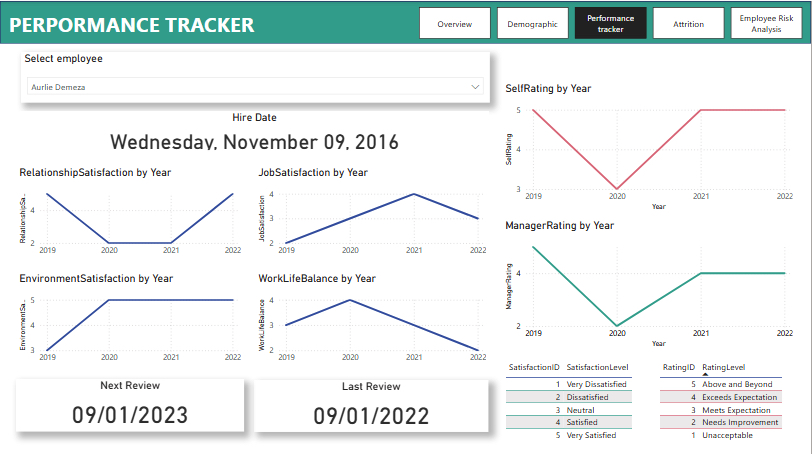

The page's visual inventory and layout, read from the dashboard file:
{"tool":"powerbi","page":{"name":"Performance tracker","canvas":[1280,720],"ordinal":2},"visuals":[{"type":"slicer","title":"Select employee","fields":{"Values":["DimEmployee.FullName"]},"box":[32.5,80.8,740,79.5],"z":0},{"type":"advanceCardE03760C5AB684758B56AA29F9E6C257B","title":"Last Review","fields":{"mainMeasure":["_Measures.LastReviewDate"]},"box":[401.4,597.8,370,82],"z":1000},{"type":"advanceCardE03760C5AB684758B56AA29F9E6C257B","title":"Next Review","fields":{"mainMeasure":["_Measures.NextReviewDate"]},"box":[25.3,596.6,360.4,83.2],"z":2000},{"type":"advanceCardE03760C5AB684758B56AA29F9E6C257B","title":"Hire Date","fields":{"mainMeasure":["Min(DimEmployee.HireDate)"]},"box":[32.1,173.1,740.2,67.1],"z":3000},{"type":"lineChart","fields":{"Category":["DimDate.Date.Variation.Date Hierarchy.Year"],"Y":["_Measure.RelationshipSatisfaction"]},"box":[25.3,259.7,359.9,151.7],"z":4000},{"type":"lineChart","fields":{"Y":["_Measure.EnvironmentSatisfaction"],"Category":["DimDate.Date.Variation.Date Hierarchy.Year"]},"box":[25.3,428,359.9,153.7],"z":5000},{"type":"lineChart","fields":{"Y":["_Measure.JobSatisfaction"],"Category":["DimDate.Date.Variation.Date Hierarchy.Year"]},"box":[402.7,259.7,369.6,151.7],"z":6000},{"type":"lineChart","fields":{"Category":["DimDate.Date.Variation.Date Hierarchy.Year"],"Y":["_Measure.WorkLifeBalance"]},"box":[402.7,428,369.6,153.7],"z":7000},{"type":"lineChart","fields":{"Y":["_Measure.SelfRating"],"Category":["DimDate.Date.Variation.Date Hierarchy.Year"]},"box":[791.7,127.4,464,208.1],"z":8000},{"type":"lineChart","fields":{"Category":["DimDate.Date.Variation.Date Hierarchy.Year"],"Y":["_Measure.ManagerRating"]},"box":[791.7,343.3,464,208.1],"z":9000},{"type":"tableEx","fields":{"Values":["DimSatisfiedLevel.SatisfactionID","DimSatisfiedLevel.SatisfactionLevel"]},"box":[791.7,561.2,243.2,138.1],"z":10000},{"type":"tableEx","fields":{"Values":["DimRatingLevel.RatingID","DimRatingLevel.RatingLevel"]},"box":[1034.9,561.2,232.5,138.1],"z":11000},{"type":"shape","box":[0,0,1280,67.1],"z":12000},{"type":"textbox","box":[12.6,9.7,736.3,57.4],"z":13000},{"type":"pageNavigator","box":[661.3,9.8,607.2,50.9],"z":15000}]}

Visuals, with their boxes in screenshot pixels (x1, y1, x2, y2), scaled from the page's 1280x720 canvas onto the 812x454 screenshot:
"Select employee" slicer: select_region(21, 51, 490, 101)
"Last Review" advanceCardE03760C5AB684758B56AA29F9E6C257B: select_region(255, 377, 489, 429)
"Next Review" advanceCardE03760C5AB684758B56AA29F9E6C257B: select_region(16, 376, 245, 429)
"Hire Date" advanceCardE03760C5AB684758B56AA29F9E6C257B: select_region(20, 109, 490, 151)
lineChart - DimDate.Date.Variation.Date Hierarchy.Year x _Measure.RelationshipSatisfaction: select_region(16, 164, 244, 259)
lineChart - _Measure.EnvironmentSatisfaction x DimDate.Date.Variation.Date Hierarchy.Year: select_region(16, 270, 244, 367)
lineChart - _Measure.JobSatisfaction x DimDate.Date.Variation.Date Hierarchy.Year: select_region(255, 164, 490, 259)
lineChart - DimDate.Date.Variation.Date Hierarchy.Year x _Measure.WorkLifeBalance: select_region(255, 270, 490, 367)
lineChart - _Measure.SelfRating x DimDate.Date.Variation.Date Hierarchy.Year: select_region(502, 80, 797, 212)
lineChart - DimDate.Date.Variation.Date Hierarchy.Year x _Measure.ManagerRating: select_region(502, 216, 797, 348)
tableEx - DimSatisfiedLevel.SatisfactionID x DimSatisfiedLevel.SatisfactionLevel: select_region(502, 354, 657, 441)
tableEx - DimRatingLevel.RatingID x DimRatingLevel.RatingLevel: select_region(657, 354, 804, 441)
shape: select_region(0, 0, 811, 42)
textbox: select_region(8, 6, 475, 42)
pageNavigator: select_region(420, 6, 805, 38)
